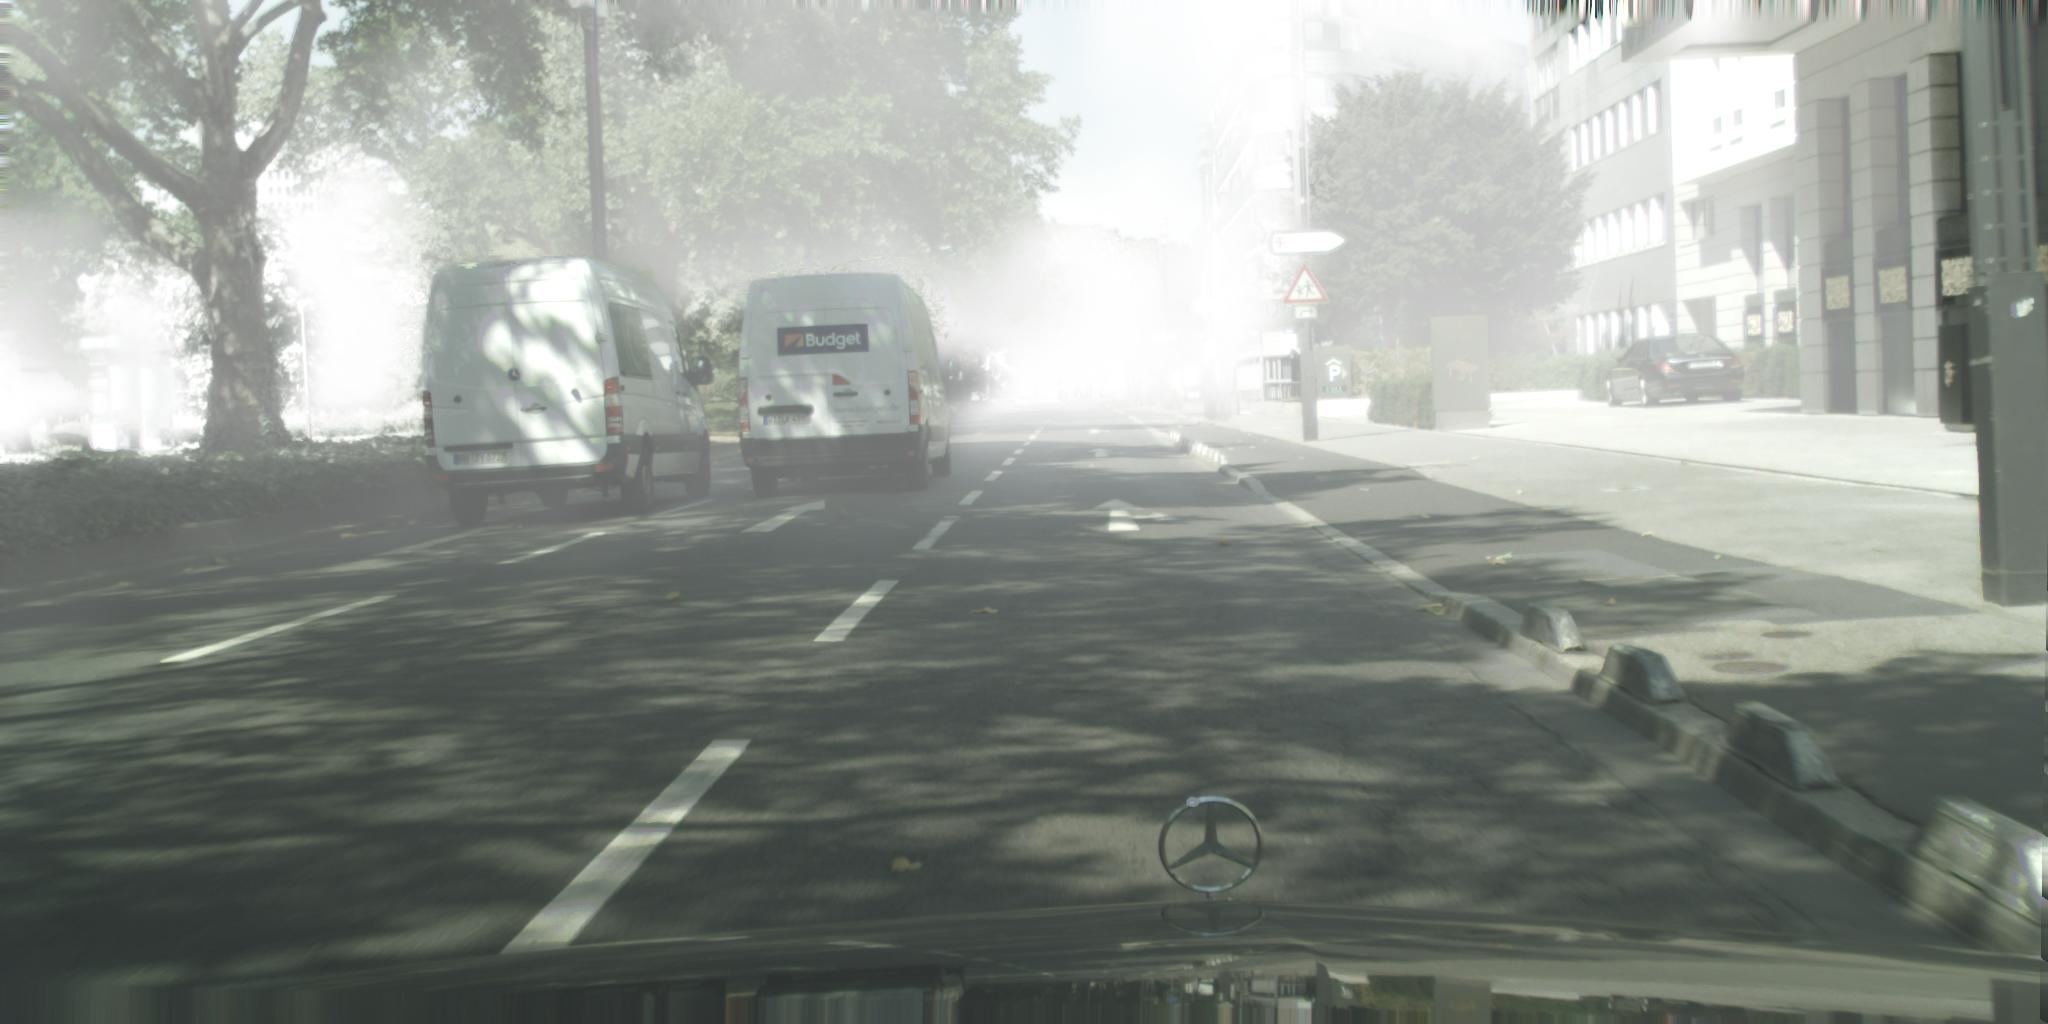car: (421, 256, 714, 526), (737, 273, 963, 499), (1605, 333, 1745, 408)
